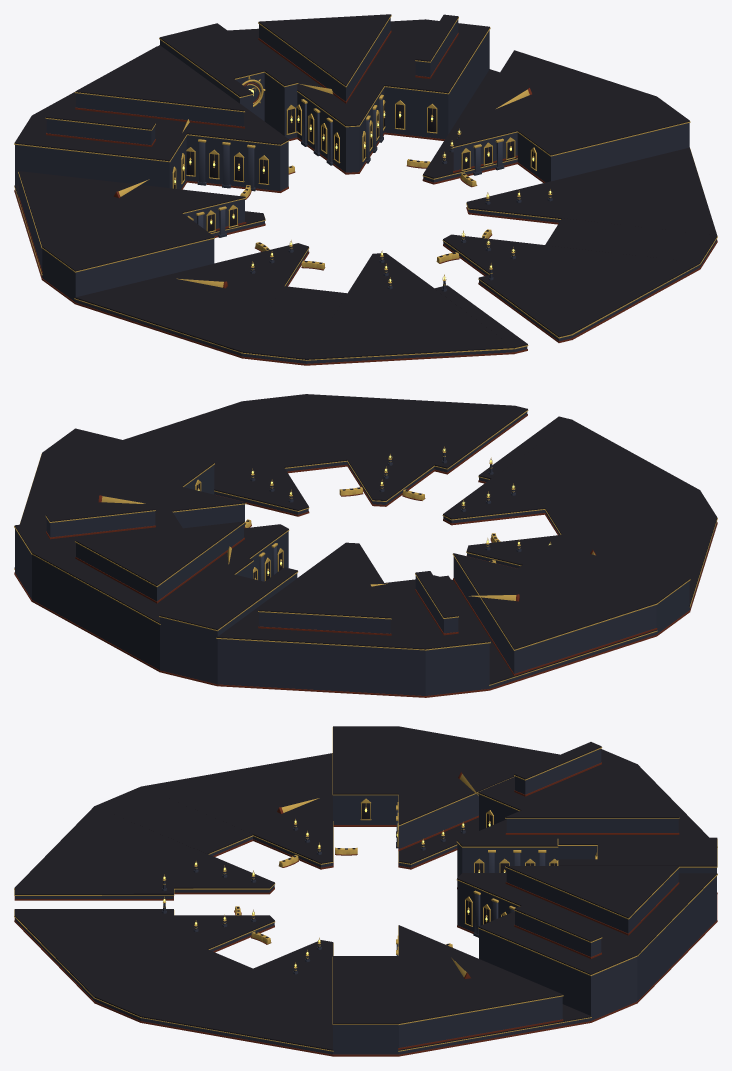
Rendered from sunburst.glb.
3 views of the same model, one above another, from view 1: azimuth 30°, elevation 25°; view 2: azimuth 150°, elevation 25°; view 3: azimuth 270°, elevation 25° (orthographic).
Visible parts, largest first — view 1: back; view 2: back; view 3: back.
Boxes of the visible parts, <box> form: back: <box>14,14,717,365</box>; back: <box>14,394,717,697</box>; back: <box>14,726,717,1056</box>.
Bounding box in the file's own units: 124 × 13.01 × 124.
